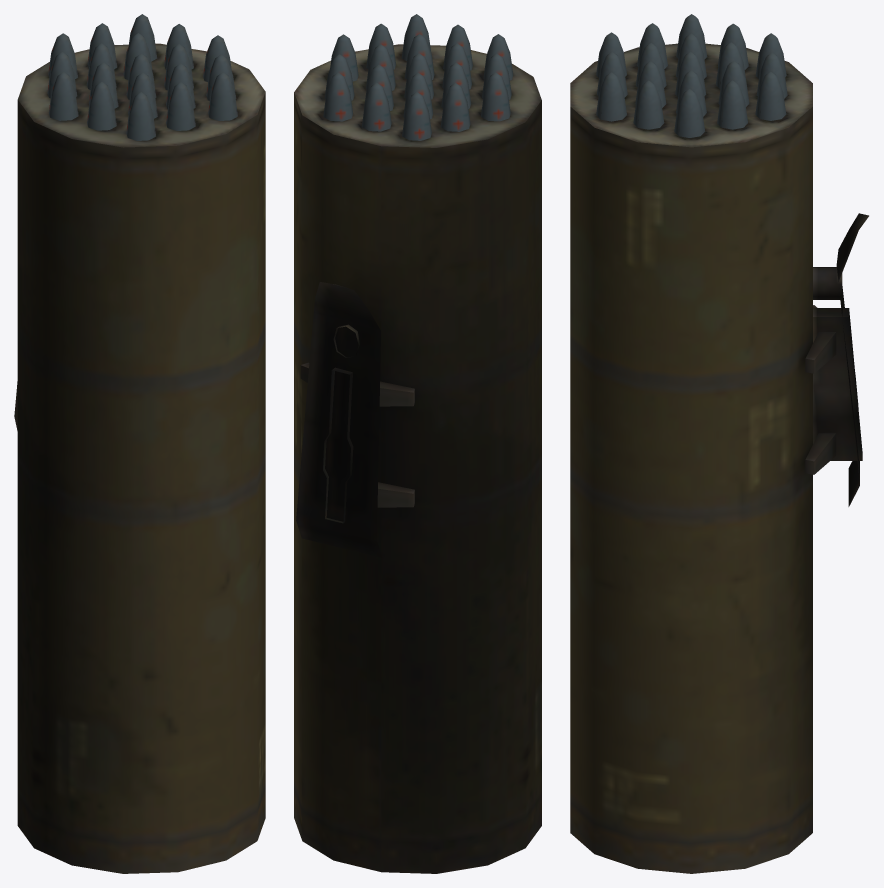
File: rocketpack.fbx
The picture shows the model from 3 angles, left to right: view 1: azimuth 30°, elevation 25°; view 2: azimuth 150°, elevation 25°; view 3: azimuth 270°, elevation 25°; orthographic projection.
Visible parts, largest first — view 1: rocketpack; view 2: rocketpack; view 3: rocketpack.
Boxes of the visible parts, box(x1,y1,x2,y2) form: rocketpack: box(14, 14, 265, 873); rocketpack: box(294, 14, 541, 873); rocketpack: box(570, 14, 868, 873).
Size of the model in its own units: 0.3401 by 1.16 by 0.4092.
